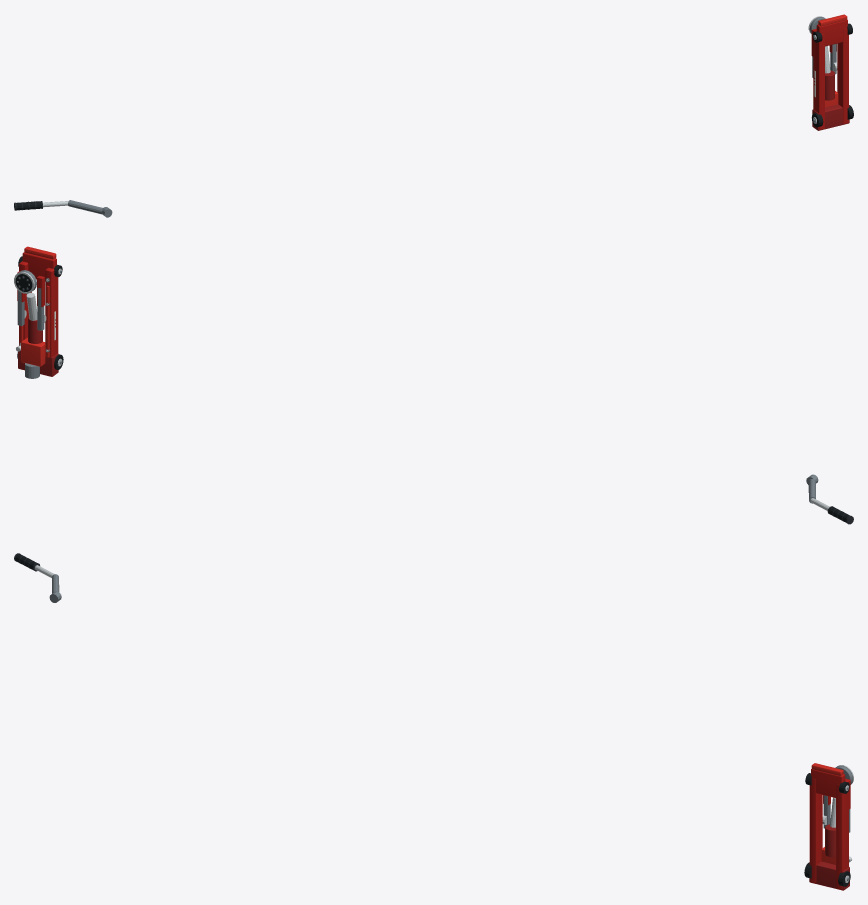
The model's file is Equipment_FloorJack.fbx.
The picture shows the model from 3 angles, top to bottom: view 1: azimuth 30°, elevation 25°; view 2: azimuth 150°, elevation 25°; view 3: azimuth 330°, elevation 25°; orthographic projection. The views are drawn at different scales.
Visible parts, largest first — view 1: T24_01_Kirmizi_Hidrolik_Zemin_Krikosu__heavy C-section red s (×2), T24_01_Kirmizi_Hidrolik_Zemin_Krikosu__long formed nose, T24_01_Kirmizi_Hidrolik_Zemin_Krikosu__rear crossmember; view 2: T24_01_Kirmizi_Hidrolik_Zemin_Krikosu__heavy C-section red s, T24_01_Kirmizi_Hidrolik_Zemin_Krikosu__pump mechanism housin, T24_01_Kirmizi_Hidrolik_Zemin_Krikosu__long formed nose; view 3: T24_01_Kirmizi_Hidrolik_Zemin_Krikosu__heavy C-section red s (×2).
Part boxes in pixels (x1,y1,x2,y2): T24_01_Kirmizi_Hidrolik_Zemin_Krikosu__heavy C-section red s (×2): (813, 28, 848, 130); T24_01_Kirmizi_Hidrolik_Zemin_Krikosu__long formed nose: (816, 19, 847, 46); T24_01_Kirmizi_Hidrolik_Zemin_Krikosu__rear crossmember: (812, 104, 849, 130); T24_01_Kirmizi_Hidrolik_Zemin_Krikosu__heavy C-section red s: (45, 267, 58, 357); T24_01_Kirmizi_Hidrolik_Zemin_Krikosu__pump mechanism housin: (21, 338, 45, 366); T24_01_Kirmizi_Hidrolik_Zemin_Krikosu__long formed nose: (22, 252, 56, 281); T24_01_Kirmizi_Hidrolik_Zemin_Krikosu__heavy C-section red s (×2): (809, 778, 848, 889).
Size of the model in its own units: 10.67 by 1.4 by 1.04.
